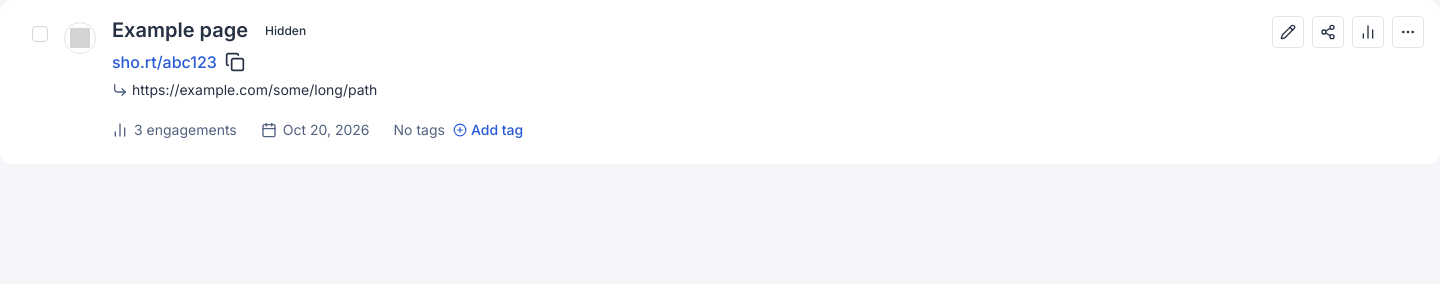
Test: LinkCard › offers Show link for hidden links
The width and height of the screenshot is (1440, 284).
Click the button named "More": click(1408, 32) [1392,16,1424,48]
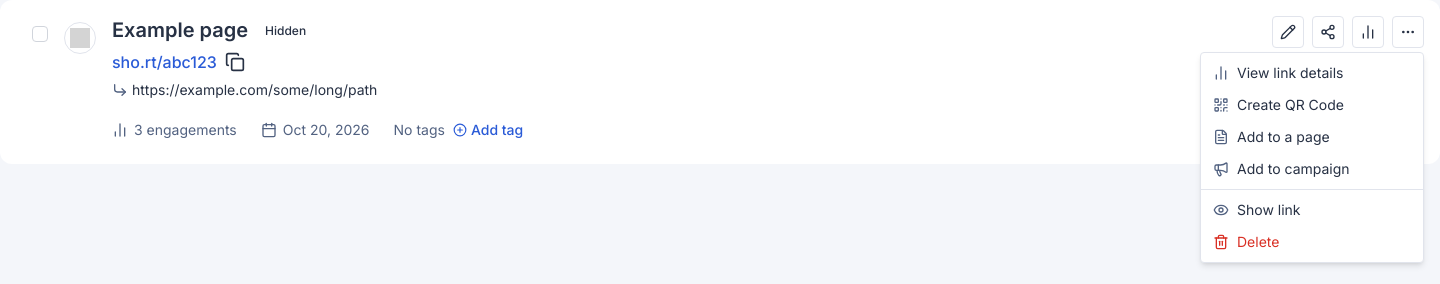
expect the menu item "Show link" is shown: met, box [1213,201,1300,218]
